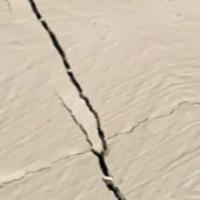crack: (16, 0, 147, 199)
